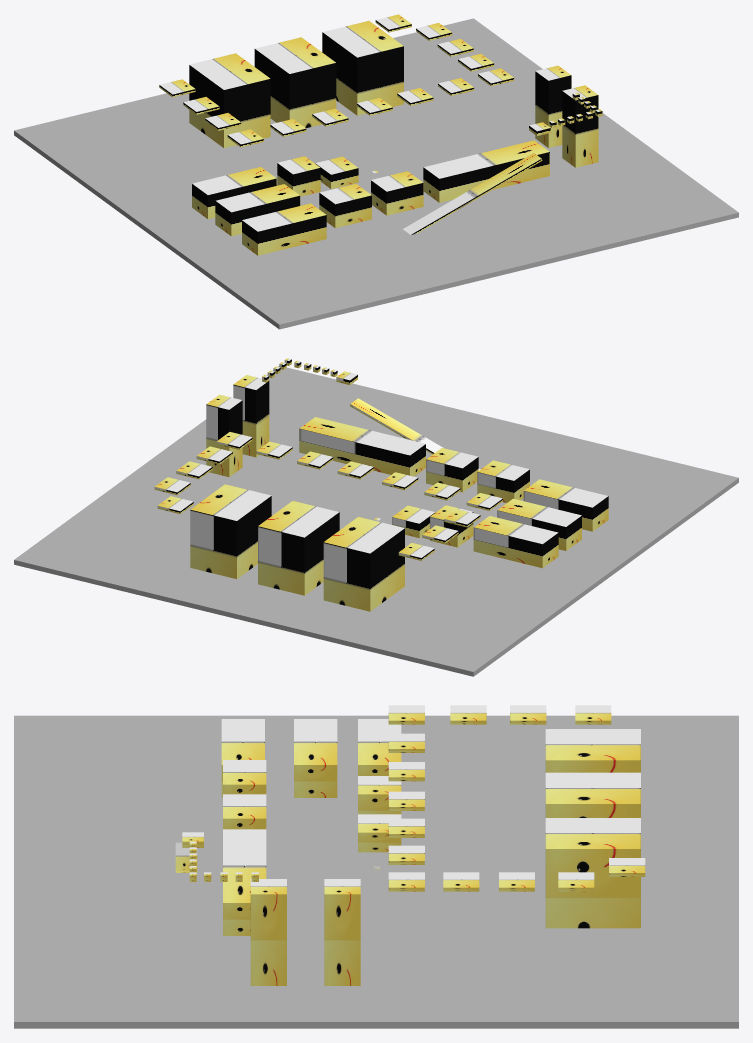
File: stage.obj
3 views of the same model, one above another, from view 1: azimuth 30°, elevation 25°; view 2: azimuth 150°, elevation 25°; view 3: azimuth 270°, elevation 25° (orthographic). The views are drawn at different scales.
Visible parts, largest first — view 1: 立方体.002; view 2: 立方体.002; view 3: 立方体.002.
Boxes of the visible parts, box(x1,y1,x2,y2) form: 立方体.002: box(14, 14, 738, 329); 立方体.002: box(14, 358, 738, 676); 立方体.002: box(14, 705, 738, 1028).
Size of the model in its own units: 200 by 35.41 by 200.
